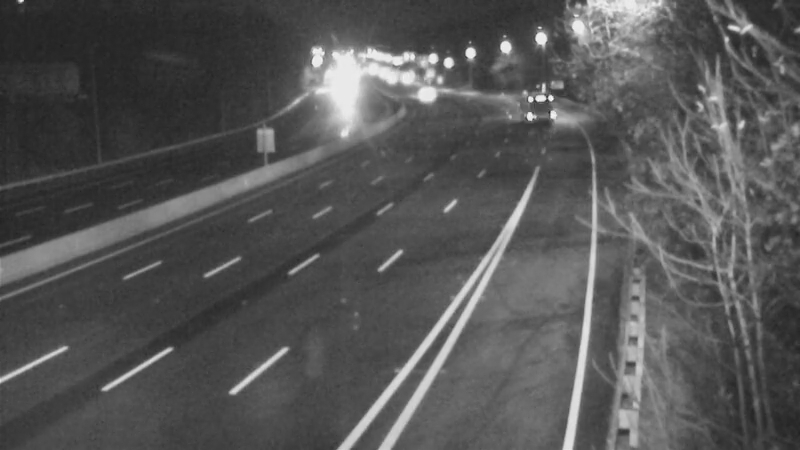vehicle: (382, 55, 432, 105), (400, 69, 450, 119), (502, 80, 552, 130), (320, 71, 370, 121)
